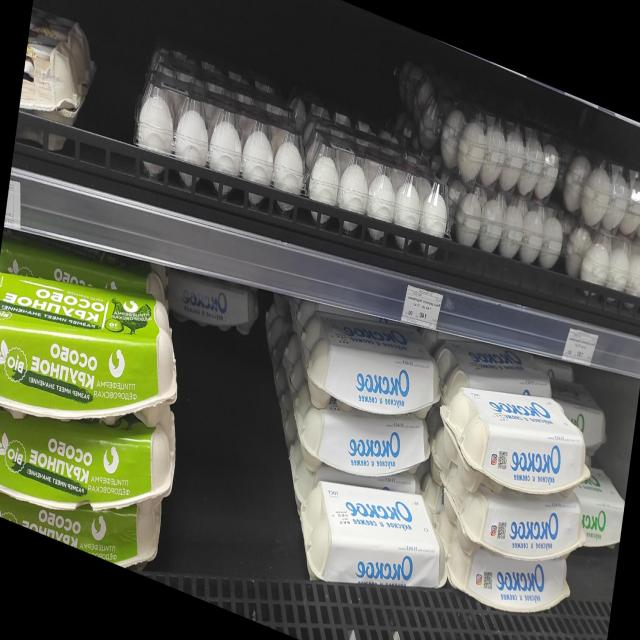organic waste: (0, 236, 185, 477), (0, 348, 191, 568), (295, 450, 453, 631), (435, 357, 594, 531), (303, 300, 441, 452), (442, 449, 588, 589), (296, 376, 440, 508), (15, 0, 96, 164), (166, 254, 263, 351), (576, 467, 627, 554), (557, 378, 610, 444)
